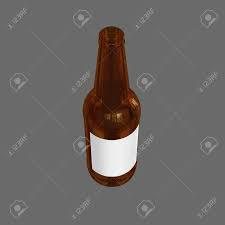beer: (83, 26, 138, 186)
